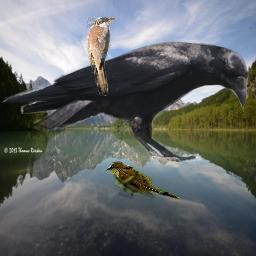Crow: (2, 40, 249, 162)
Cuckoo: (106, 161, 180, 200), (87, 17, 115, 96)
